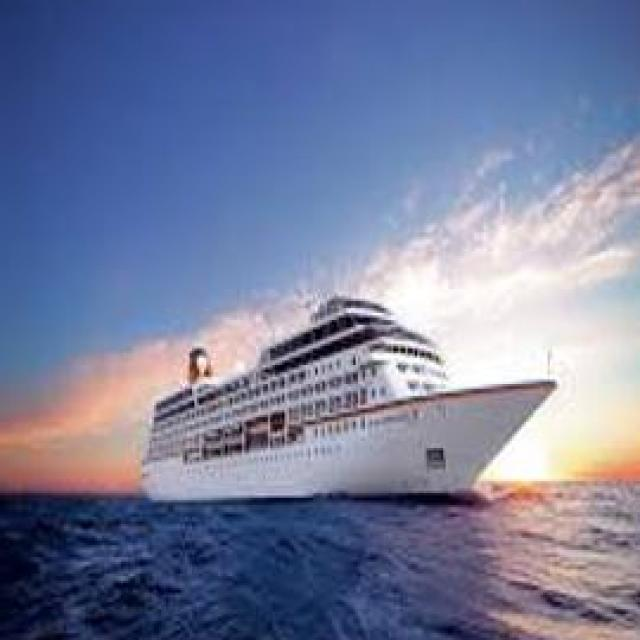passenger ship: (138, 283, 560, 507)
